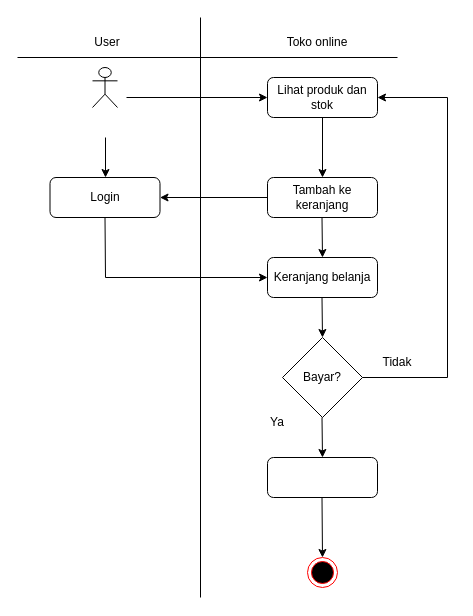
This 473x616 diagram has some shape labels left out. Here are the shapes that lost their labels. From the top down, the centre of each, then its label:
pixel 105 87: Actor
pixel 322 477: isi form alamat dan melakukan pembayaran
